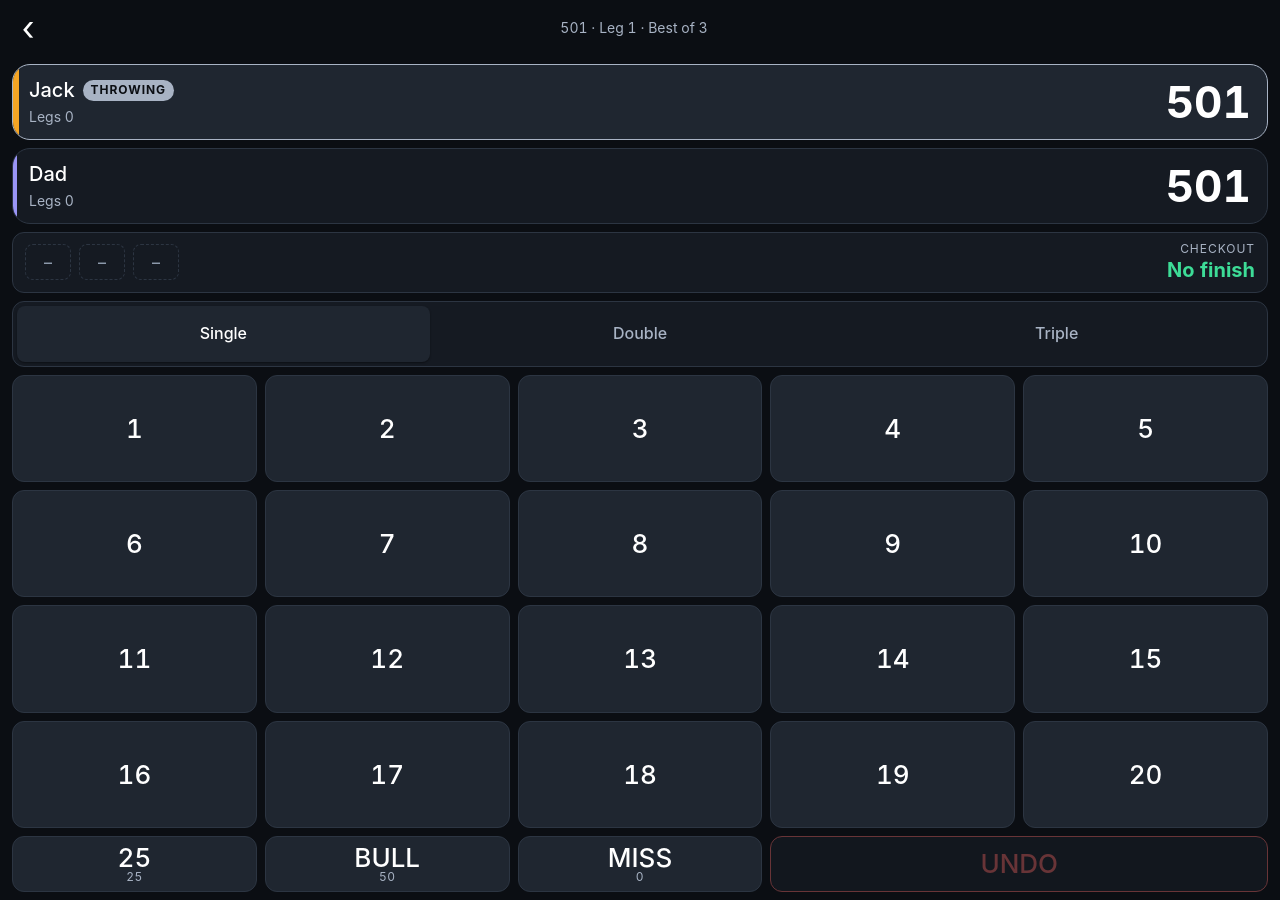
it: criterion 1: the boundary between the two sheets › shows the leg sheet when a non-deciding leg is won in a best-of-3
Expected: the element named "This visit" is shown, left=25, top=244, right=179, bottom=280
Click the radio button labelled "Double": coordinates (640, 334) left=434, top=306, right=846, bottom=362
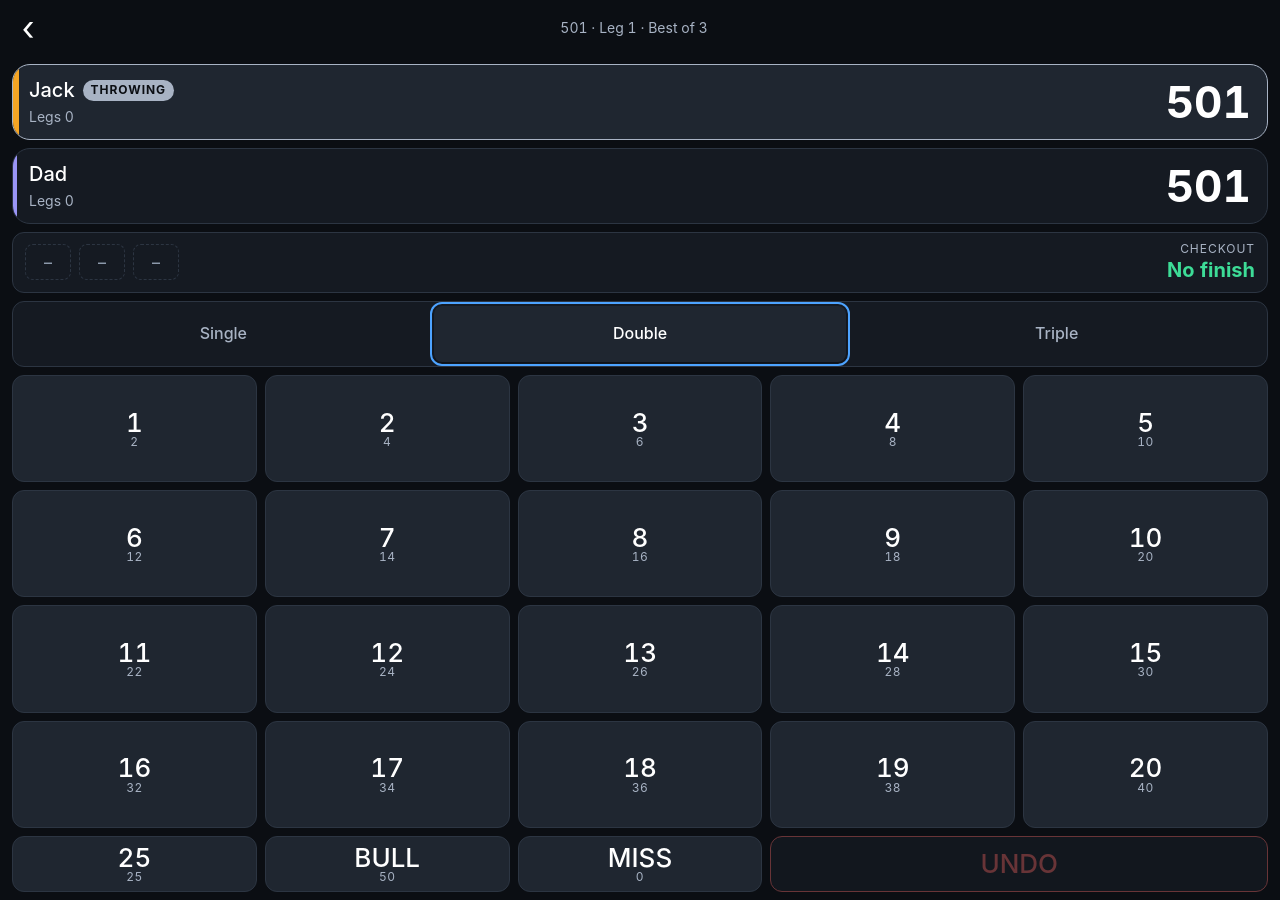
Click the button named "20,": coordinates (1146, 774) left=1023, top=721, right=1268, bottom=828
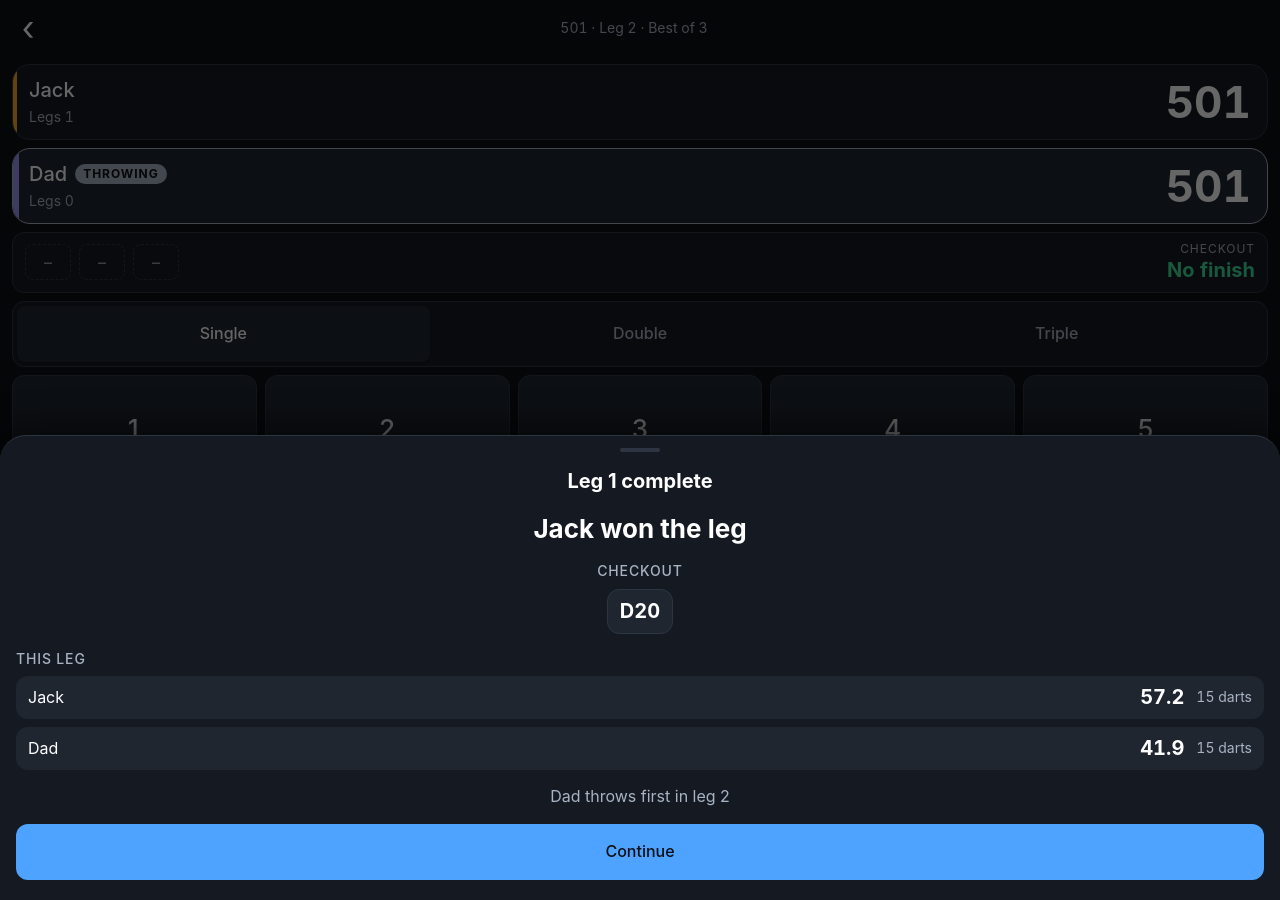
Expected: the dialog "Leg 1 complete" is shown, left=0, top=434, right=1279, bottom=899
Expected: the text "Jack won the leg" is shown, left=533, top=512, right=747, bottom=544
